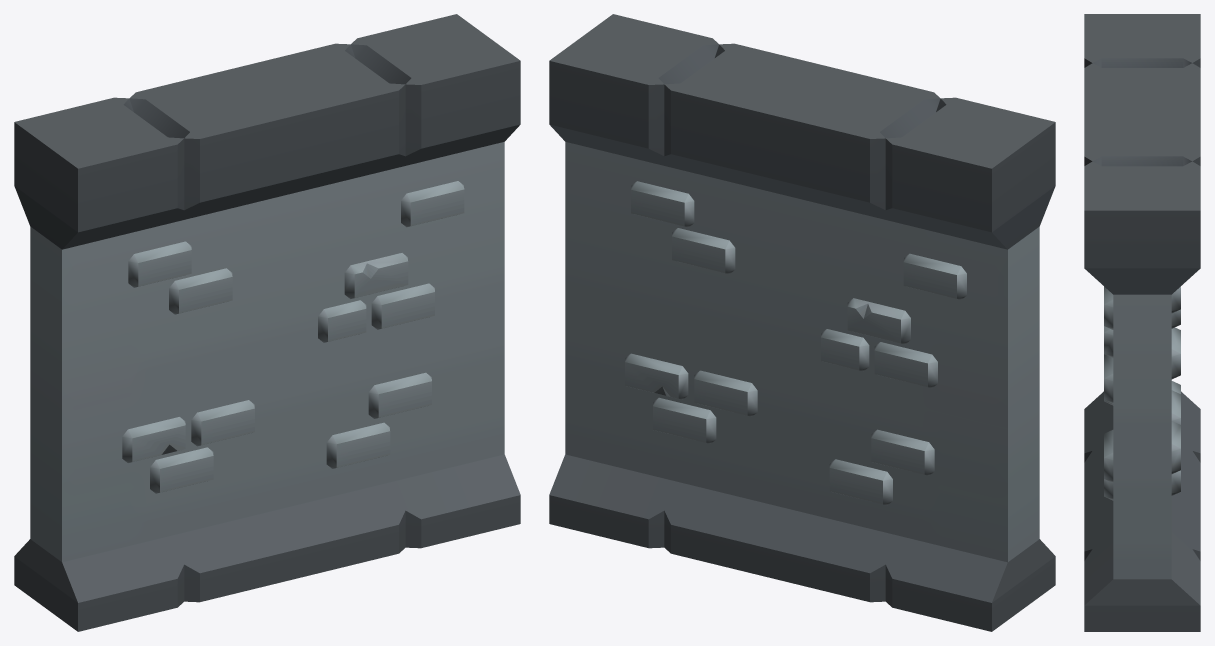
Rendered from wall.glb.
3 views of the same model, side by side, from view 1: azimuth 30°, elevation 25°; view 2: azimuth 150°, elevation 25°; view 3: azimuth 270°, elevation 25° (orthographic). The views are drawn at different scales.
Parts seen in each view (by area): view 1: wall; view 2: wall; view 3: wall.
Boxes of the visible parts, x1,y1,x2,y2 form: wall: [14, 14, 520, 631]; wall: [549, 14, 1055, 631]; wall: [1084, 14, 1200, 631].
Size of the model in its own units: 4 by 4 by 1.
1 material, 1 textured.
